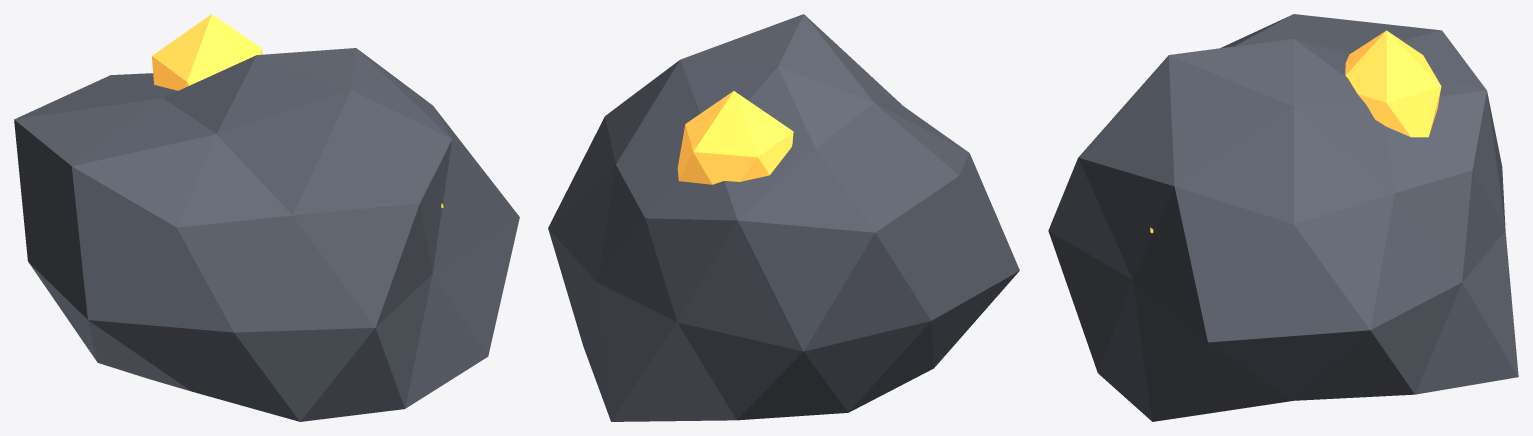
The model's file is ore_rock.glb.
The picture shows the model from 3 angles, left to right: view 1: azimuth 30°, elevation 25°; view 2: azimuth 150°, elevation 25°; view 3: azimuth 270°, elevation 25°; orthographic projection. The views are drawn at different scales.
Parts seen in each view (by area): view 1: ore_rock; view 2: ore_rock; view 3: ore_rock.
Part boxes in pixels (x1=…): ore_rock: x1=14, y1=14, x2=519, y2=421; ore_rock: x1=548, y1=14, x2=1019, y2=421; ore_rock: x1=1048, y1=14, x2=1518, y2=421.
Size of the model in its own units: 1.66 by 1.13 by 1.52.
